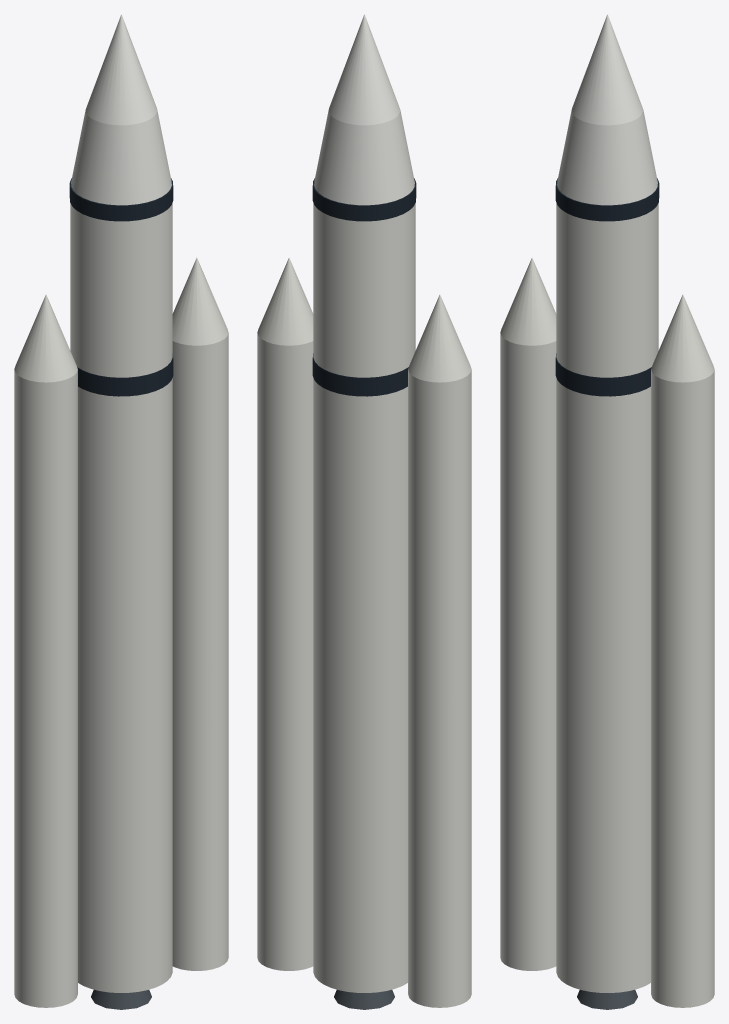
File: ariane6.glb
3 views of the same model, side by side, from view 1: azimuth 30°, elevation 25°; view 2: azimuth 150°, elevation 25°; view 3: azimuth 330°, elevation 25° (orthographic).
Visible parts, largest first — view 1: booster-body (×2), body-0, body-1, fairing, booster-nose (×2), nose, interstage-0, interstage-1, engine-0-0; view 2: booster-body (×2), body-0, body-1, fairing, booster-nose (×2), nose, interstage-0, interstage-1, engine-0-0; view 3: booster-body (×2), body-0, body-1, fairing, booster-nose (×2), nose, interstage-0, interstage-1, engine-0-0.
Boxes of the visible parts, x1,y1,x2,y2 form: booster-body (×2): (14,333,228,1007); body-0: (78,378,172,992); body-1: (70,203,172,377); fairing: (71,109,171,205); booster-nose (×2): (14,257,228,382); nose: (85,14,157,125); interstage-0: (77,353,173,396); interstage-1: (69,178,173,221); engine-0-0: (91,989,151,1009); booster-body (×2): (257,333,471,1007); body-0: (313,378,407,992); body-1: (313,203,415,377); fairing: (314,109,414,205); booster-nose (×2): (257,257,471,382); nose: (328,14,400,125); interstage-0: (312,353,408,396); interstage-1: (312,178,416,221); engine-0-0: (334,989,394,1009); booster-body (×2): (500,333,714,1007); body-0: (556,378,650,992); body-1: (556,203,658,377); fairing: (557,109,657,205); booster-nose (×2): (500,257,714,382); nose: (571,14,643,125); interstage-0: (555,353,651,396); interstage-1: (555,178,659,221); engine-0-0: (577,989,637,1009).
Bounding box in the file's own units: 12.53 × 57.21 × 5.46.
